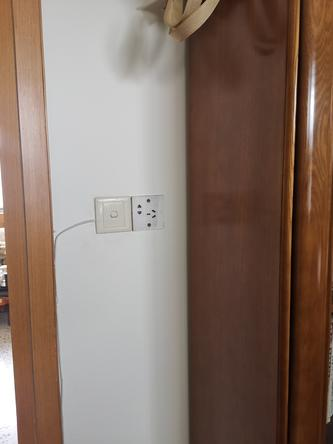switch: (106, 207, 123, 222)
